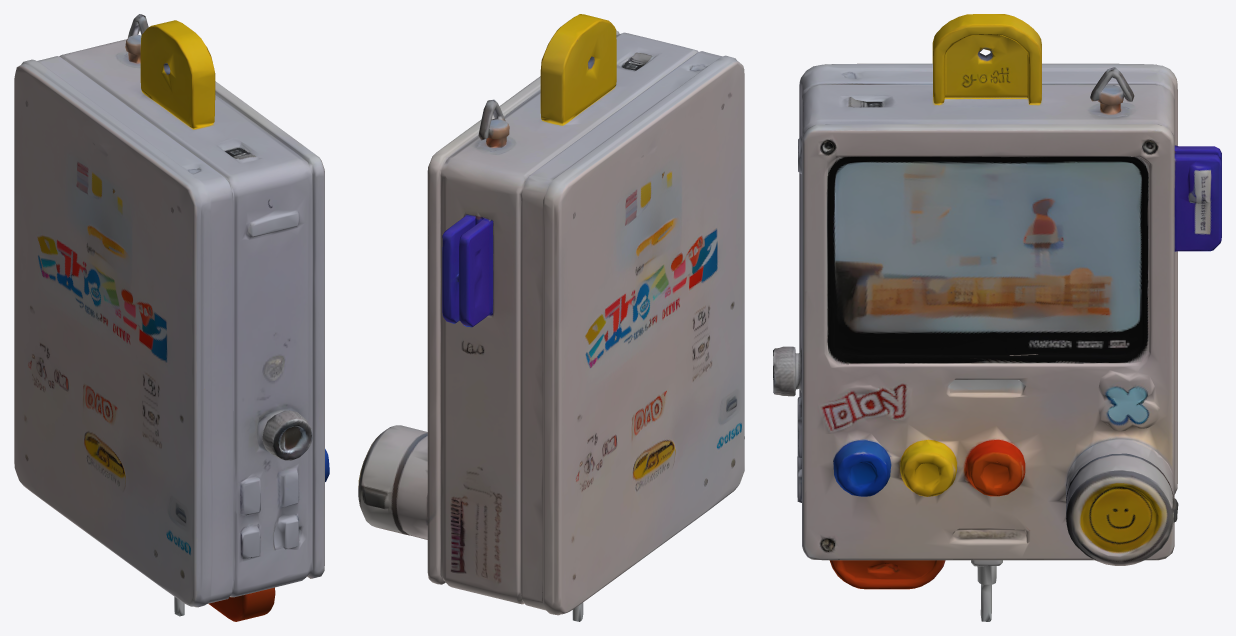
Rendered from console.glb.
3 renders of one model, left to right at view 1: azimuth 30°, elevation 25°; view 2: azimuth 150°, elevation 25°; view 3: azimuth 270°, elevation 25°, orthographic. The views are drawn at different scales.
Parts seen in each view (by area): view 1: tripo_node_c499efc3-19ee-40a1-a246-9517f4c4b705; view 2: tripo_node_c499efc3-19ee-40a1-a246-9517f4c4b705; view 3: tripo_node_c499efc3-19ee-40a1-a246-9517f4c4b705.
Part boxes in pixels (box(x1,y1,x2,y2)): tripo_node_c499efc3-19ee-40a1-a246-9517f4c4b705: box(14, 14, 329, 621); tripo_node_c499efc3-19ee-40a1-a246-9517f4c4b705: box(358, 14, 744, 621); tripo_node_c499efc3-19ee-40a1-a246-9517f4c4b705: box(773, 14, 1221, 621).
Bounding box in the file's own units: 0.3627 × 0.9997 × 0.677.
Materials: 1 (1 with a texture image).
